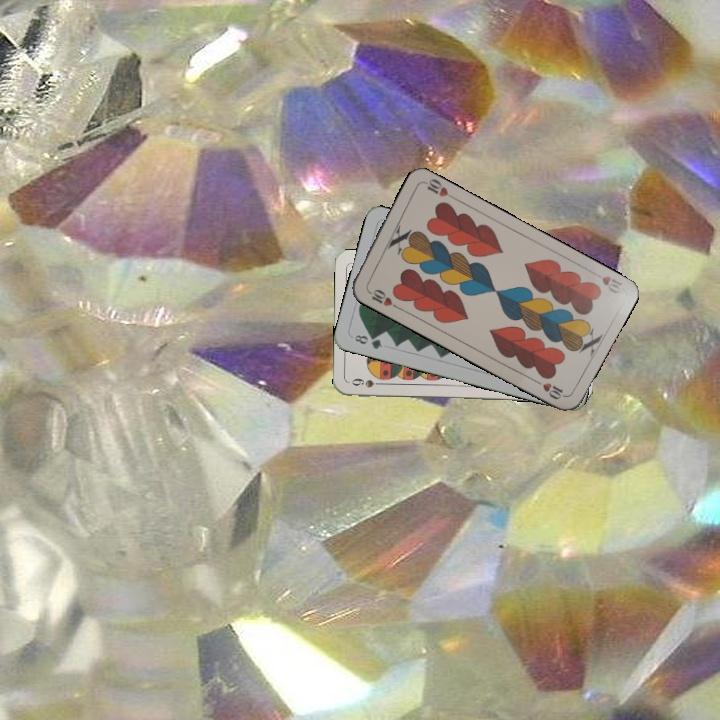G8: (350, 331, 385, 352)
H10: (363, 285, 400, 311), (597, 272, 625, 296)
S9: (347, 374, 388, 390)
